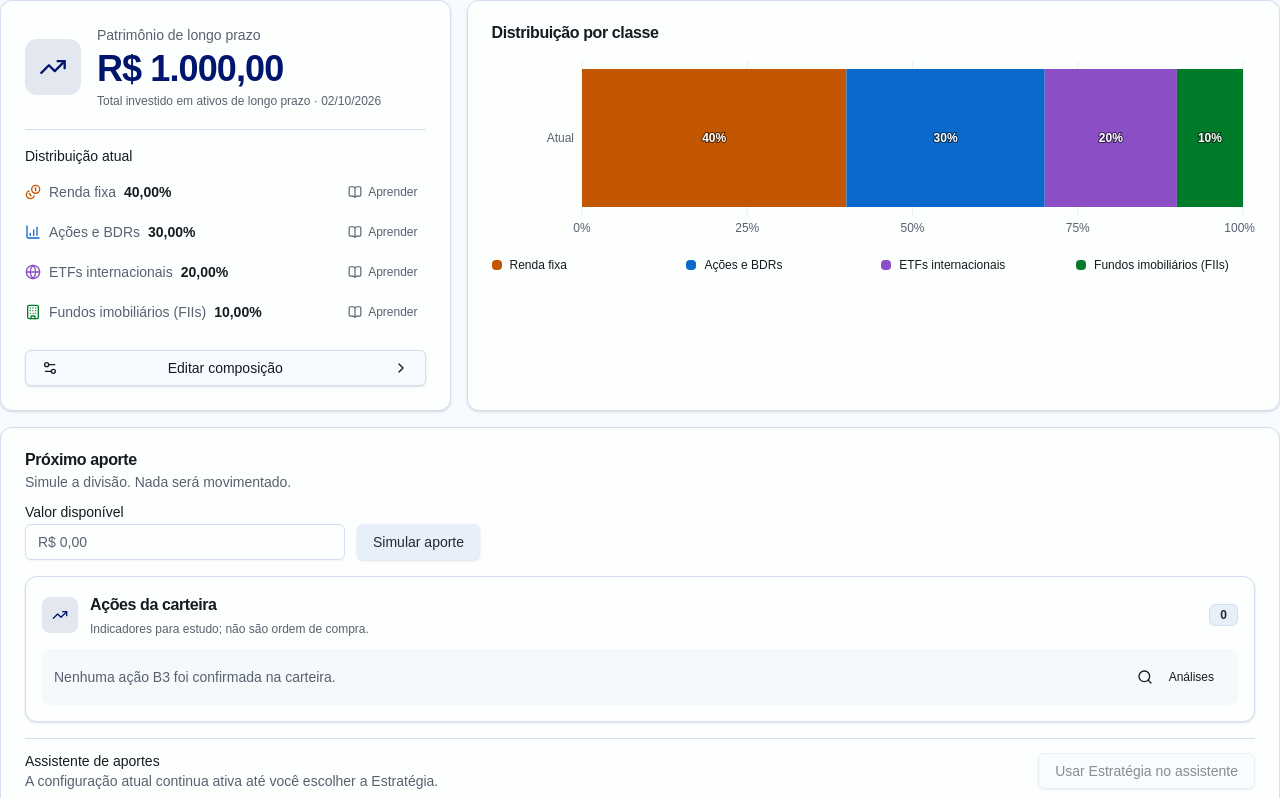
PersonalInvestmentStrategy › saves a new composition through the editor and updates the saved state
Expected: the text "Distribuição por classe" is shown, [492,24,658,41]
Click the button "Editar composição" at [225, 368], box [25,350,426,386]
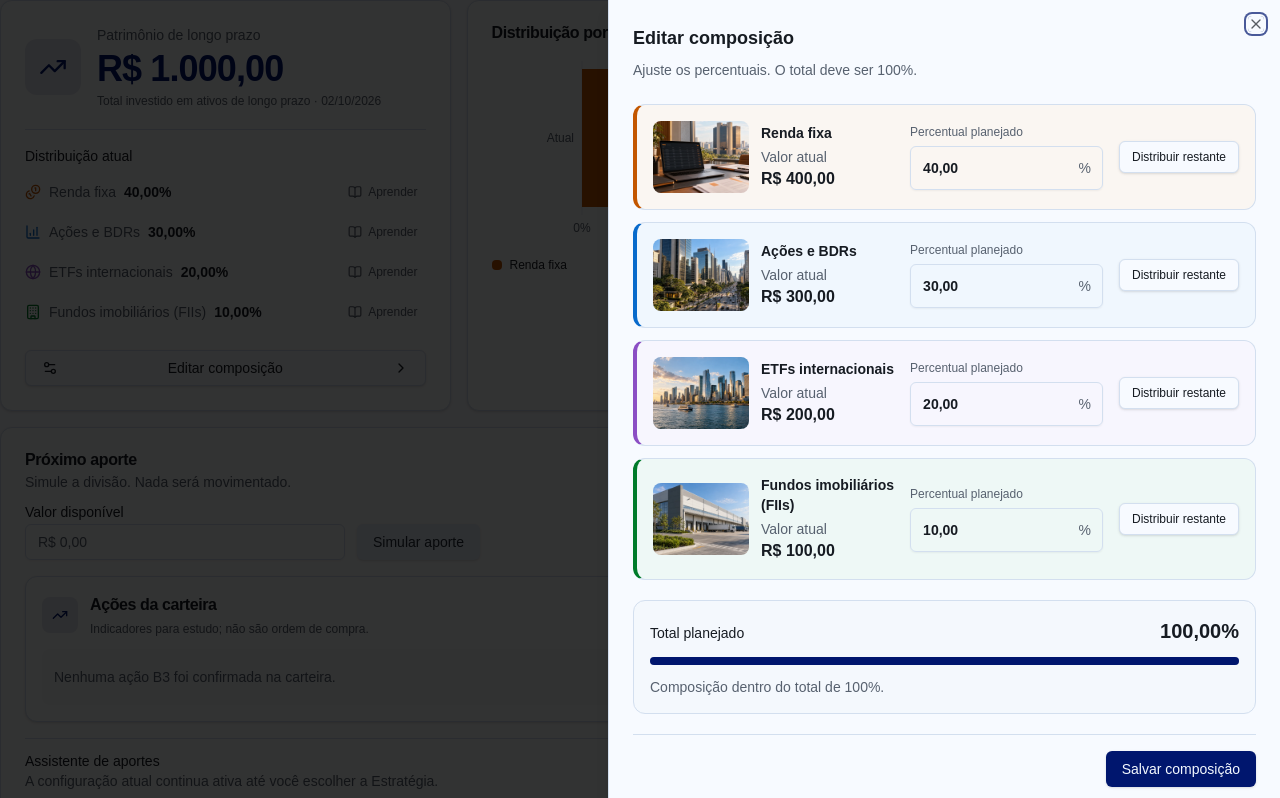
Replace the text in the field named "Renda fixa planejada em porcentagem" with "0" at [1007, 168], box [910,146,1103,190]
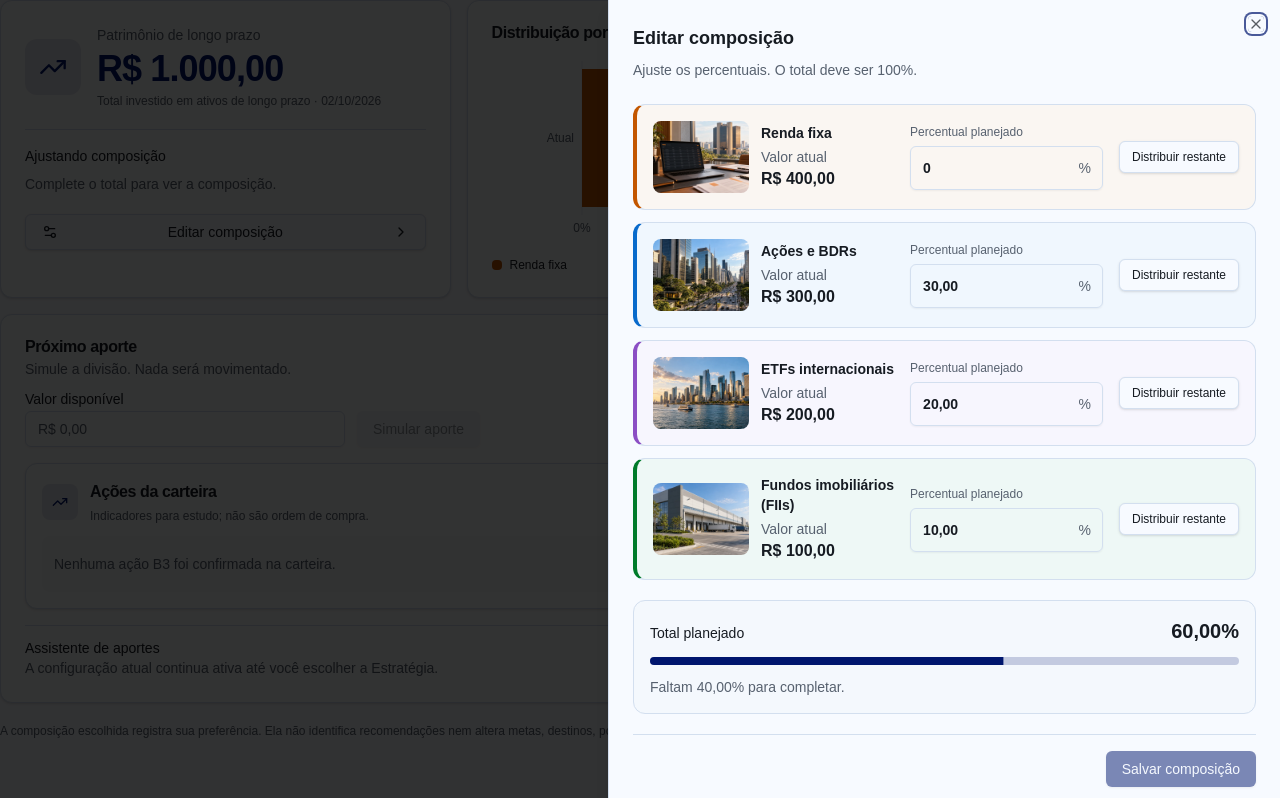
Replace the text in the field named "Ações e BDRs planejada em porcentagem" with "30" at [1007, 286], box [910,264,1103,308]
Replace the text in the field named "ETFs internacionais planejada em porcentagem" with "20" at [1007, 404], box [910,382,1103,426]
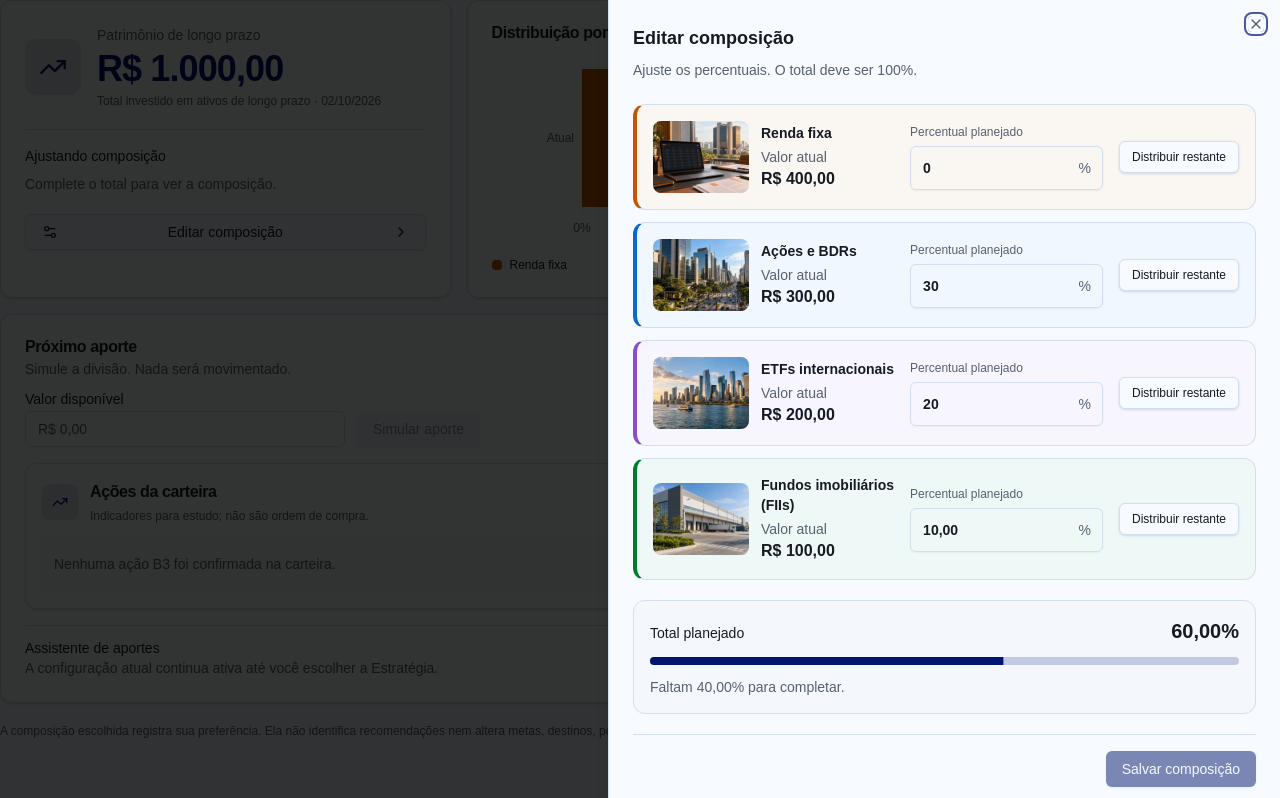
Replace the text in the field named "Fundos imobiliários (FIIs) planejada em porcentagem" with "50" at [1007, 530], box [910,508,1103,552]
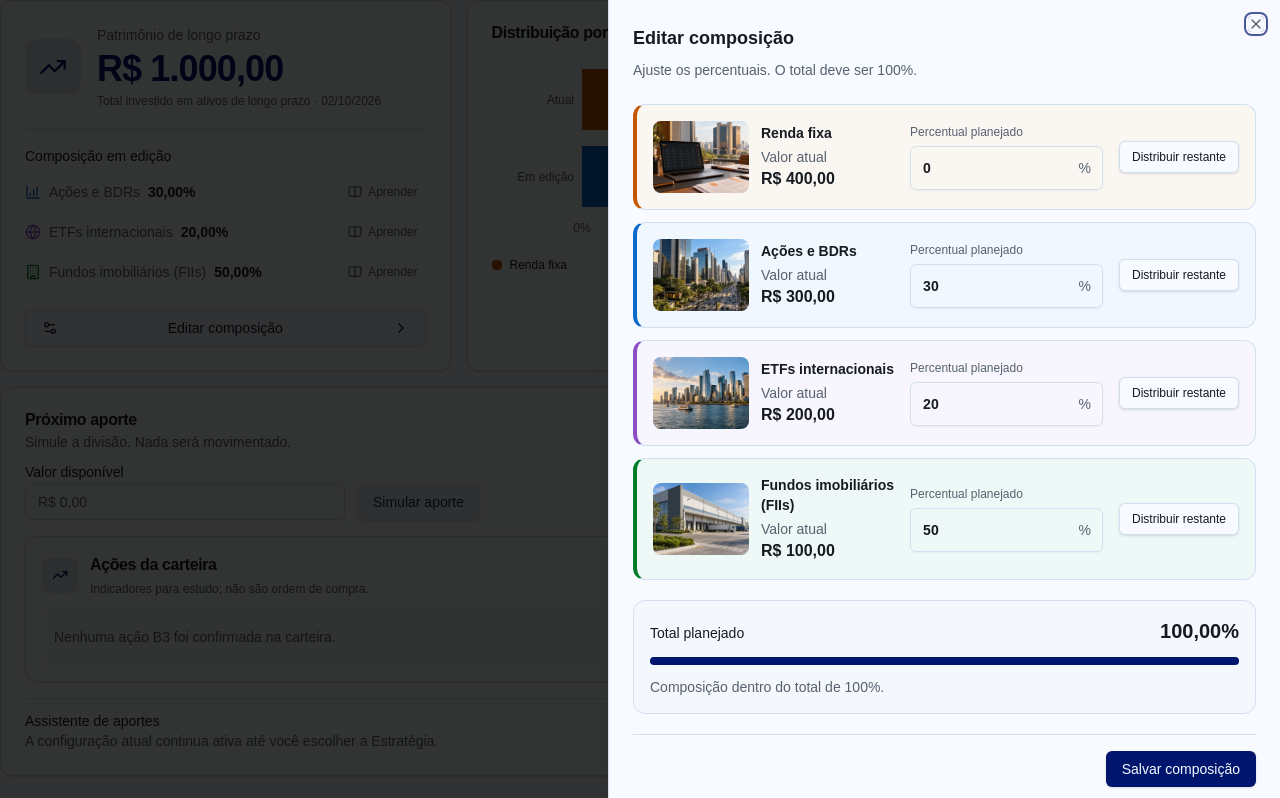
Click the button "Salvar composição" at [1181, 769], box [1106,751,1256,787]
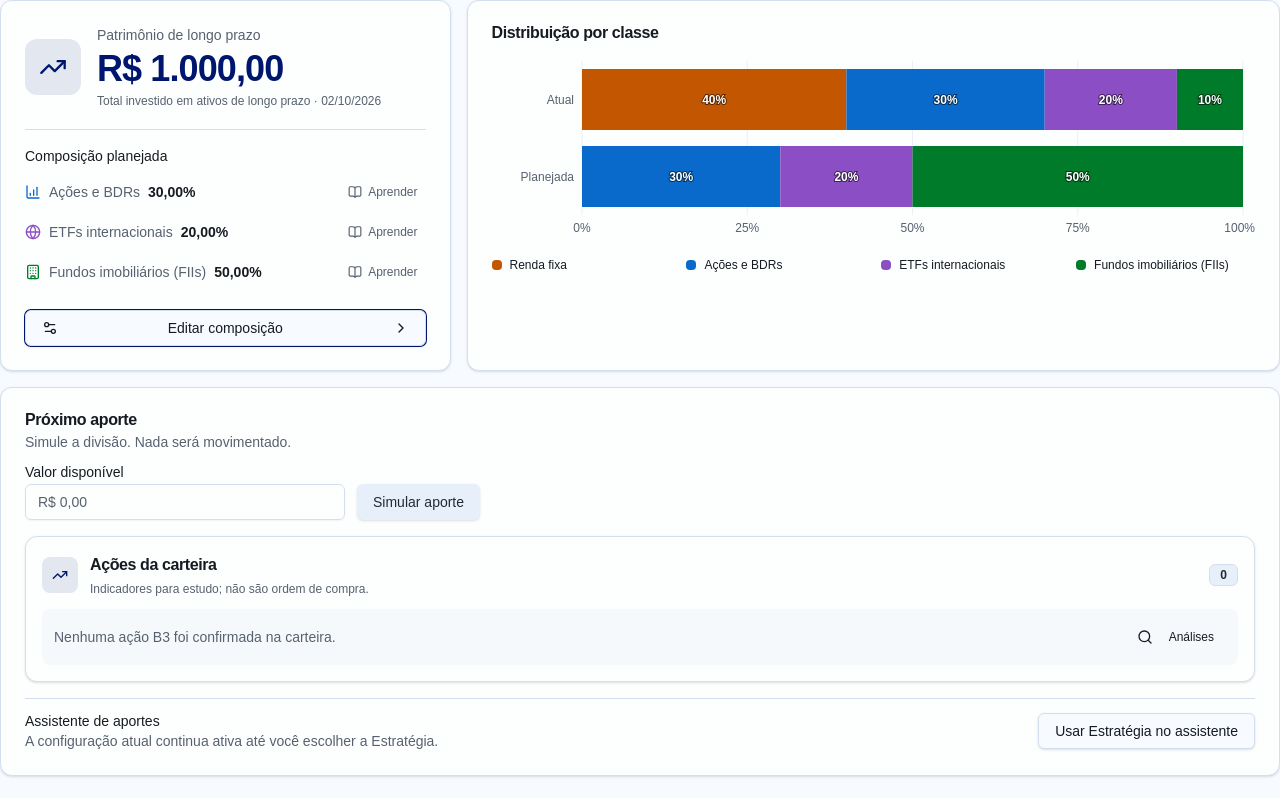
Click the button "Editar composição" at [225, 328], box [25,310,426,346]
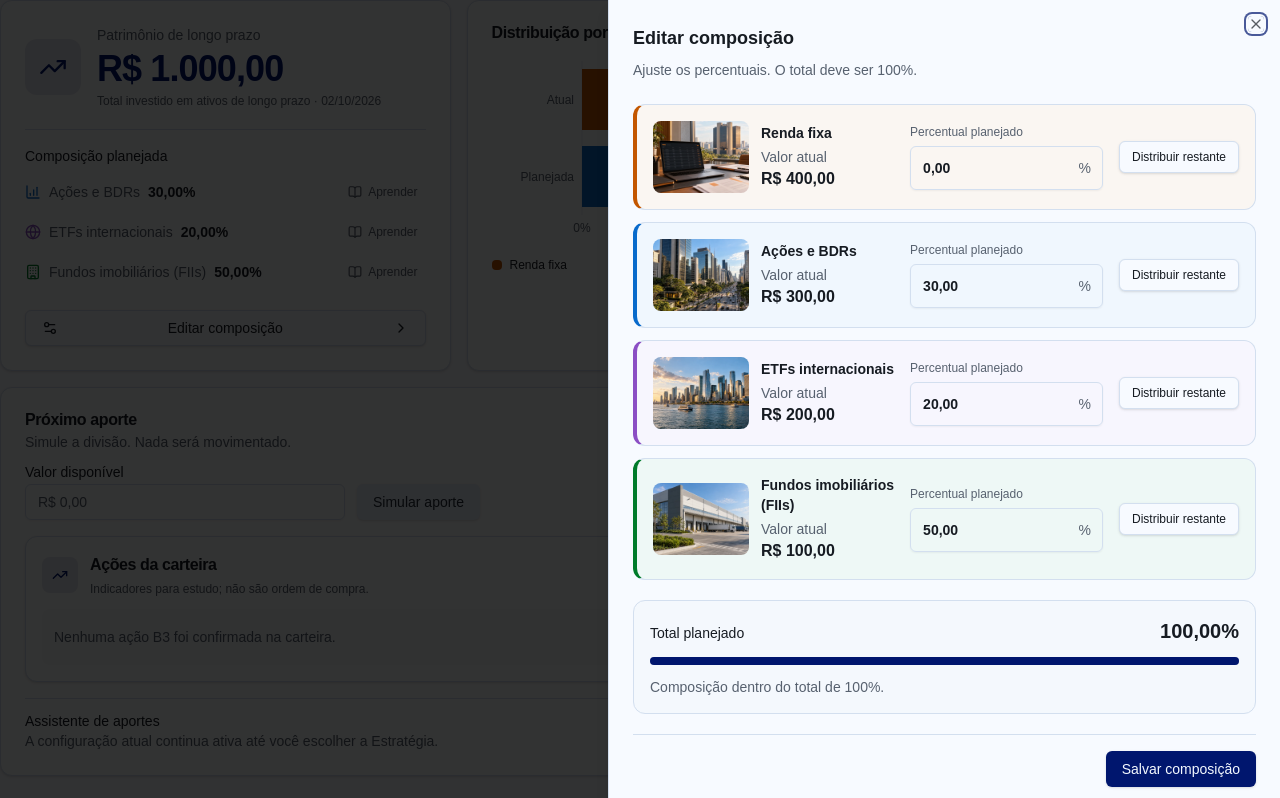
Result: the field named "Fundos imobiliários (FIIs) planejada em porcentagem" holds "50,00" at [910,508,1103,552]
